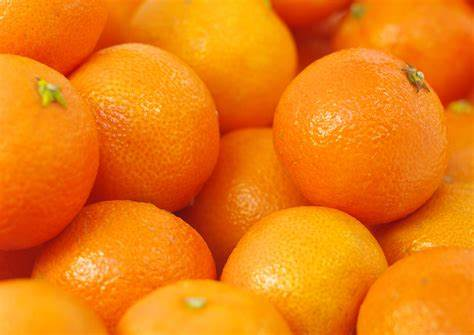Orange: (268, 43, 451, 230), (59, 38, 223, 218), (29, 191, 221, 330), (217, 202, 402, 335), (175, 119, 311, 280), (0, 49, 102, 252), (351, 242, 474, 335)
